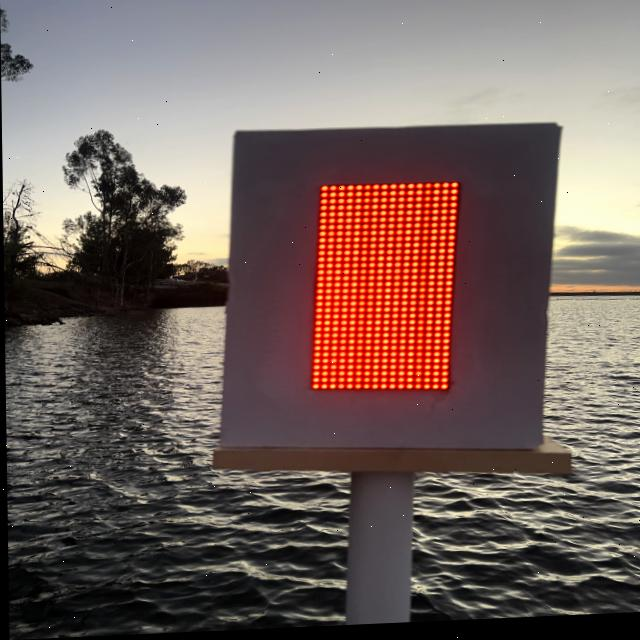led: (278, 148, 501, 431)
